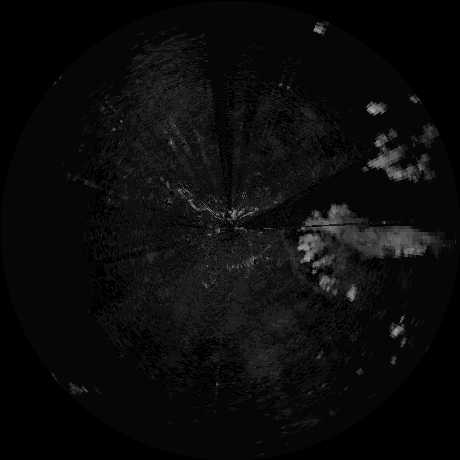frontgust: (278, 229, 313, 293)
